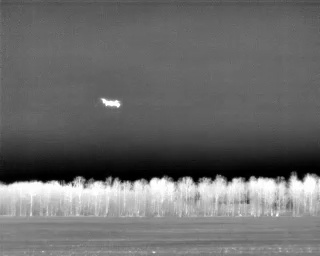DRONE: (97, 93, 125, 113)
